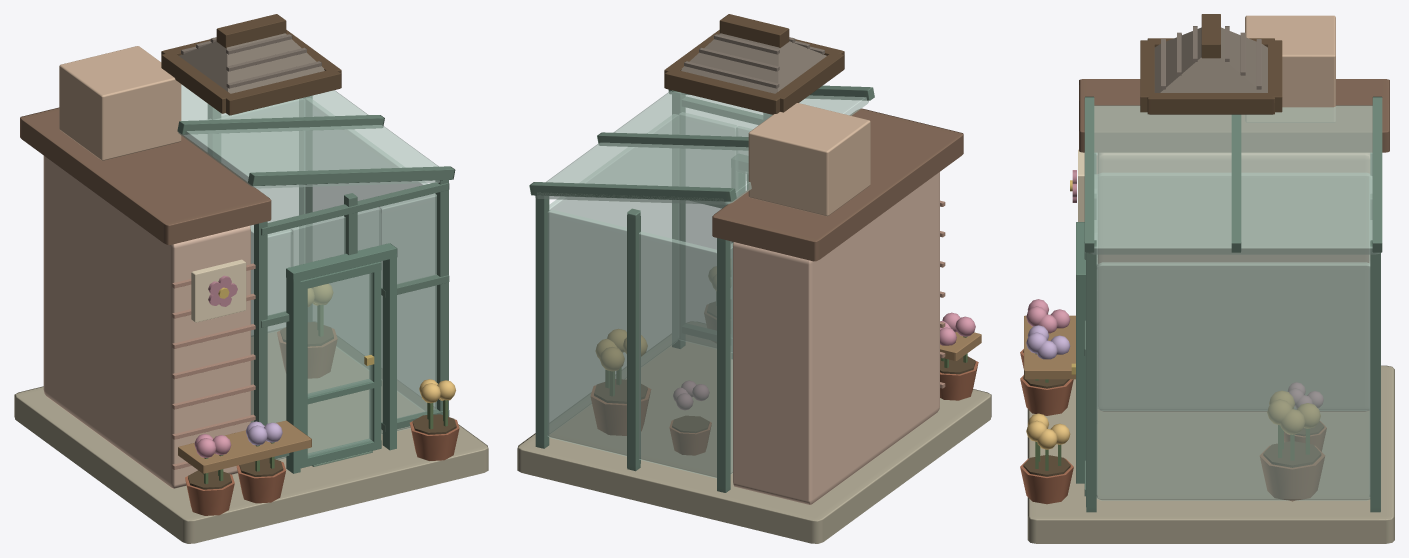
Rendered from florist-0.glb.
3 views of the same model, side by side, from view 1: azimuth 30°, elevation 25°; view 2: azimuth 150°, elevation 25°; view 3: azimuth 270°, elevation 25° (orthographic). The views are drawn at different scales.
Parts seen in each view (by area): view 1: florist-0-0, door-hinge; view 2: florist-0-0; view 3: florist-0-0.
Boxes of the visible parts, box(x1,y1,x2,y2) form: florist-0-0: box(14, 14, 488, 543); door-hinge: box(300, 261, 381, 468); florist-0-0: box(517, 14, 991, 543); florist-0-0: box(1020, 14, 1394, 543).
Size of the model in its own units: 1.9 by 2.5 by 1.94.
